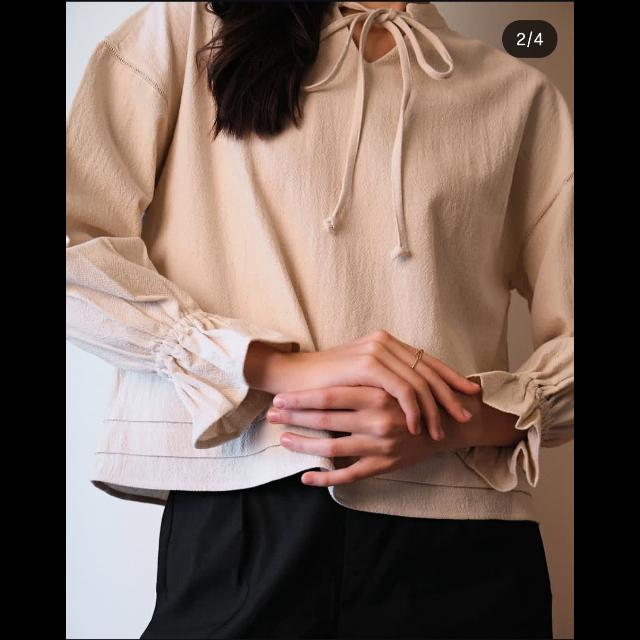bottom: (160, 492, 552, 640)
top: (69, 6, 574, 518)
